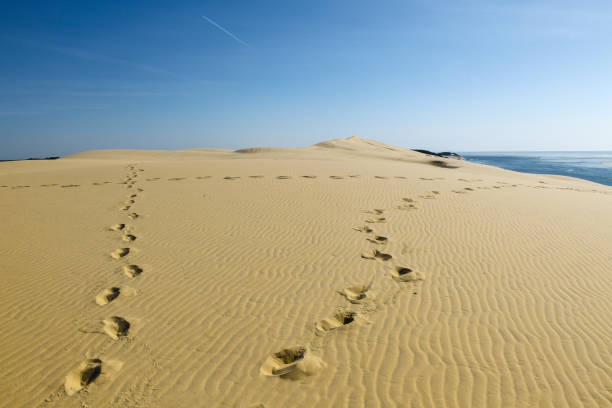human_foot_print: (260, 345, 325, 379), (64, 358, 101, 395), (260, 346, 305, 375), (78, 316, 130, 339), (315, 311, 357, 334), (337, 279, 372, 303), (103, 316, 129, 339), (391, 266, 423, 281), (95, 287, 119, 305), (361, 249, 391, 260), (123, 264, 142, 277), (111, 248, 130, 259), (366, 235, 387, 243), (396, 203, 417, 210), (353, 225, 372, 232), (365, 217, 385, 222), (110, 223, 124, 230), (364, 209, 383, 214), (122, 234, 135, 241), (128, 212, 138, 219), (401, 197, 414, 202), (419, 194, 435, 198), (124, 198, 134, 204), (195, 175, 210, 179), (60, 184, 79, 187), (276, 175, 290, 179), (146, 177, 160, 181), (329, 175, 343, 179), (168, 177, 185, 180), (120, 205, 130, 210), (41, 183, 57, 186), (223, 176, 239, 179), (419, 177, 434, 180), (301, 175, 316, 178), (248, 175, 263, 178), (452, 190, 466, 193), (128, 193, 136, 198), (374, 175, 387, 178), (348, 174, 359, 177), (91, 182, 102, 185), (394, 176, 406, 178), (137, 187, 143, 191)
